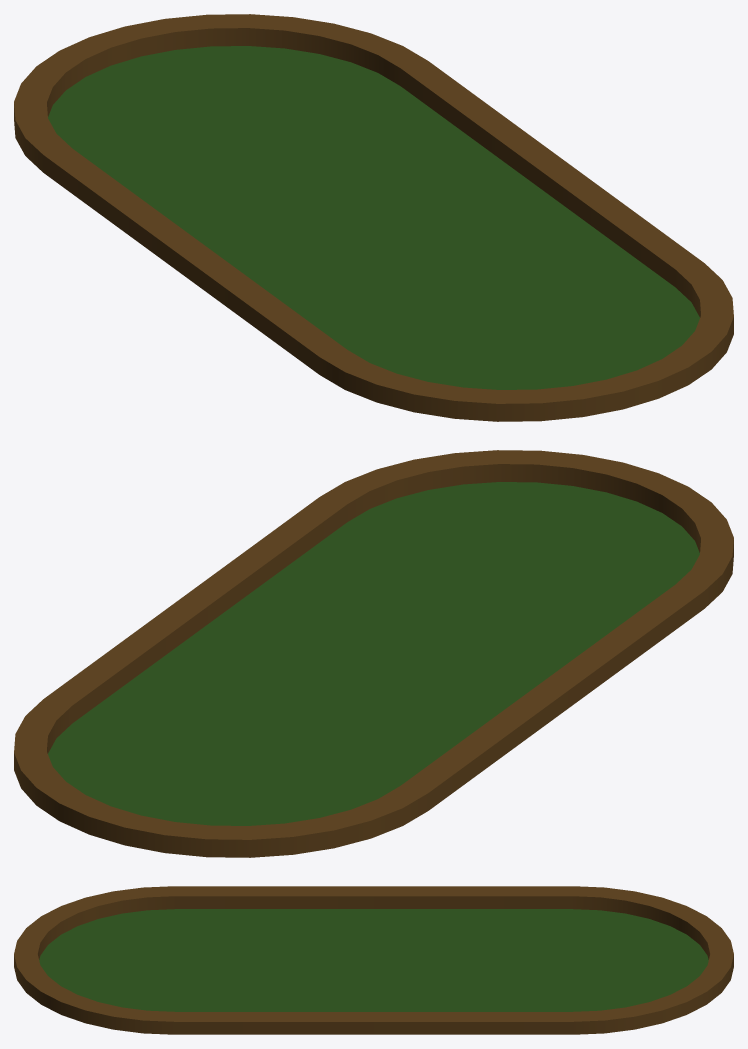
The model's file is SM_Table_Long_Low.fbx.
3 views of the same model, one above another, from view 1: azimuth 30°, elevation 25°; view 2: azimuth 150°, elevation 25°; view 3: azimuth 270°, elevation 25° (orthographic). The views are drawn at different scales.
Visible parts, largest first — view 1: SM_Table_Long_Low; view 2: SM_Table_Long_Low; view 3: SM_Table_Long_Low.
Part boxes in pixels (box(x1,y1,x2,y2)): SM_Table_Long_Low: box(14, 14, 733, 421); SM_Table_Long_Low: box(14, 450, 733, 857); SM_Table_Long_Low: box(14, 886, 733, 1034).
Bounding box in the file's own units: 123 × 5.48 × 277.
